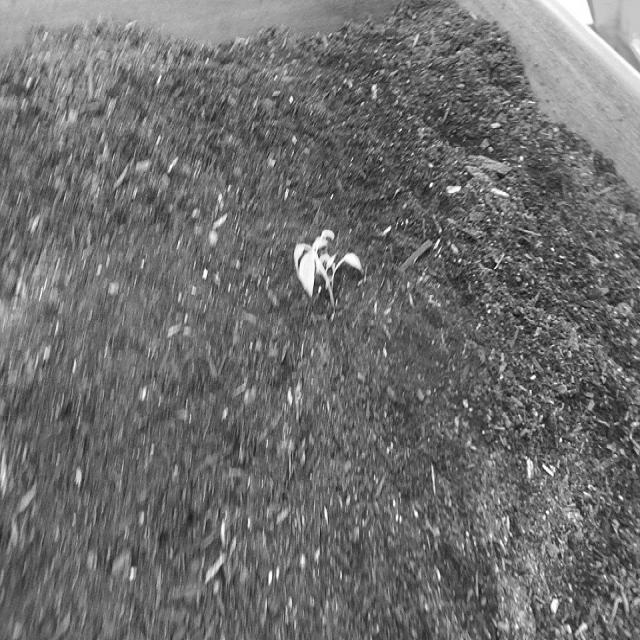Healthy: (292, 226, 366, 314)
